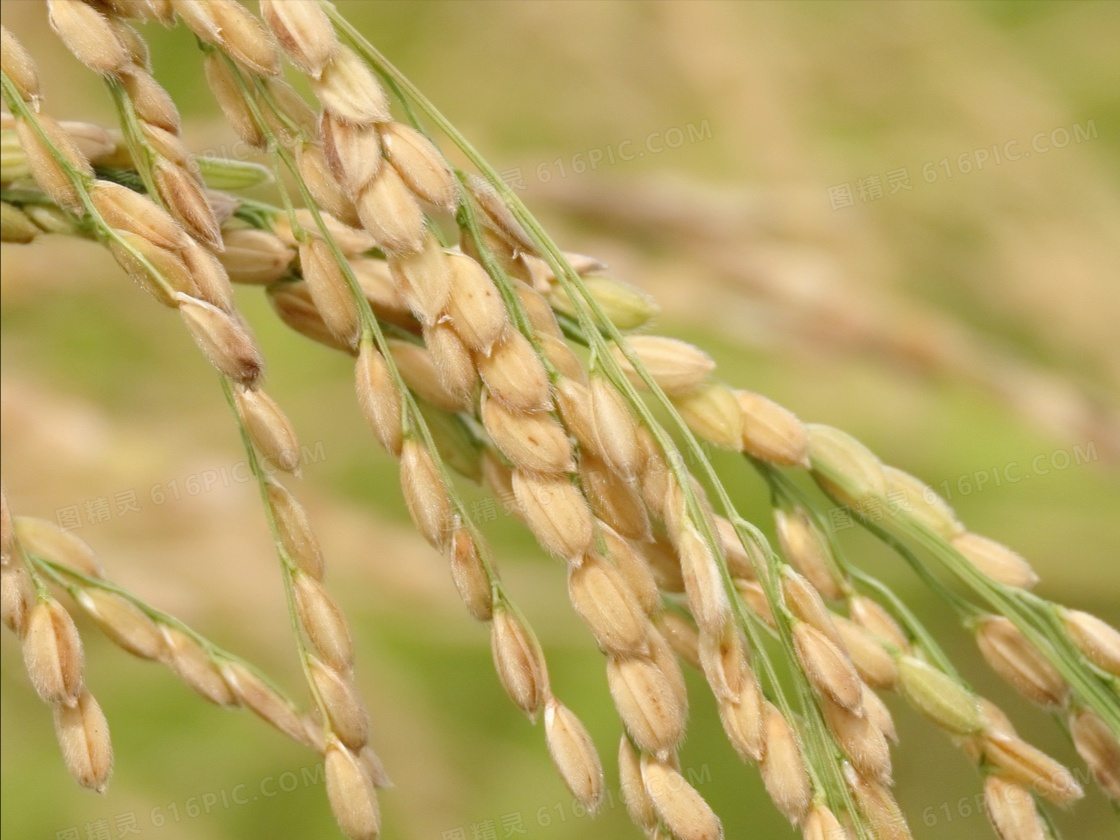rice: (1, 1, 1108, 838)
